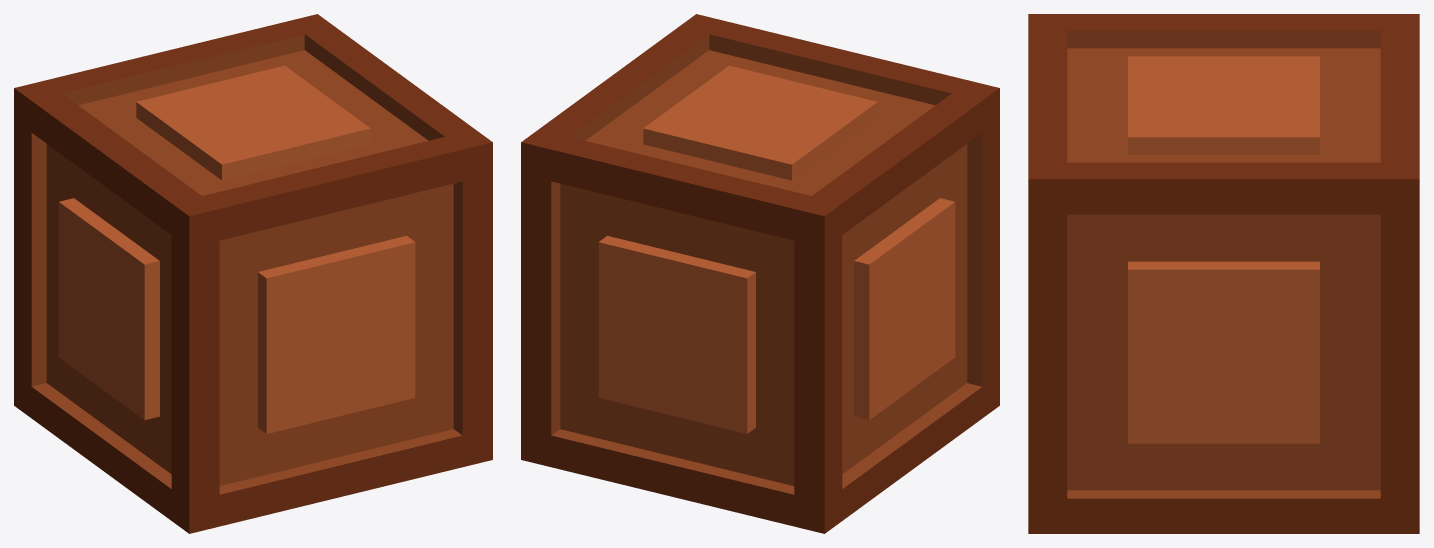
The model's file is Field_Cube_breakwall.glb.
3 renders of one model, left to right at view 1: azimuth 30°, elevation 25°; view 2: azimuth 150°, elevation 25°; view 3: azimuth 270°, elevation 25°, orthographic. The views are drawn at different scales.
Parts seen in each view (by area): view 1: Cube_Outer, Cube_Center; view 2: Cube_Outer, Cube_Center; view 3: Cube_Outer, Cube_Center.
Boxes of the visible parts, <box> form: Cube_Outer: <box>14,14,492,533</box>; Cube_Center: <box>58,65,415,433</box>; Cube_Outer: <box>521,14,999,533</box>; Cube_Center: <box>598,65,955,433</box>; Cube_Outer: <box>1028,14,1419,533</box>; Cube_Center: <box>1128,56,1319,443</box>.
Bounding box in the file's own units: 2 × 2 × 2.
